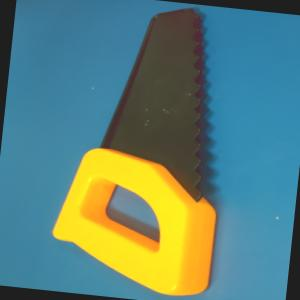serrote: (43, 0, 231, 297)
